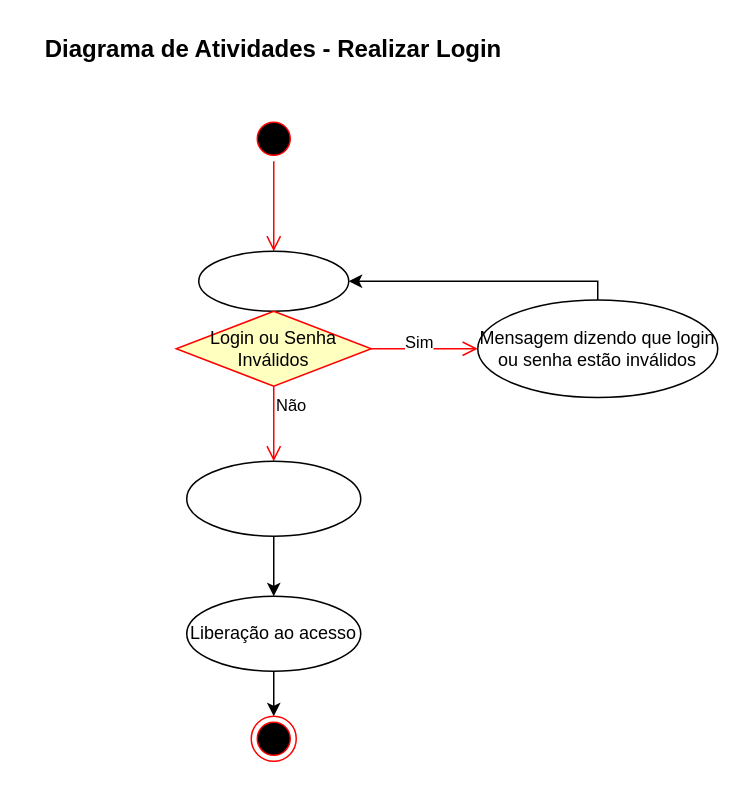
Some shapes in this 744 by 788 pixel diagram are drawn without their labels. Each missing label, with the box of its shape:
Insere Login e Senha: (197, 250, 349, 311)
Registro da data/hora em que o login foi feito: (185, 460, 361, 536)
